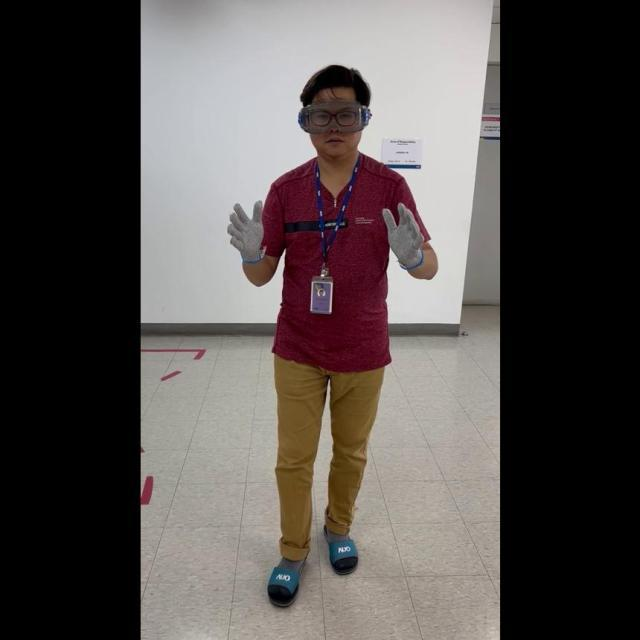gloved_hand: (379, 197, 428, 271), (225, 194, 267, 265)
